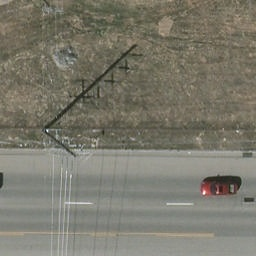car: (201, 183, 238, 196)
